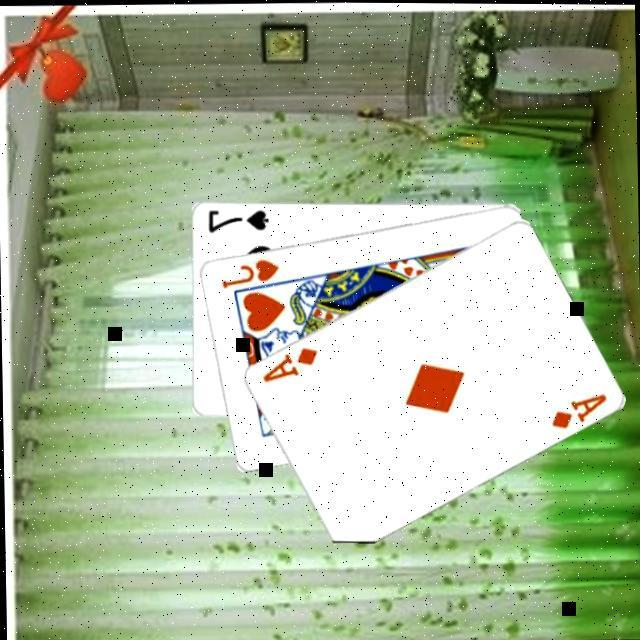7S: (202, 204, 268, 232)
AD: (544, 388, 608, 430), (255, 342, 318, 382)
JH: (215, 253, 279, 290)
